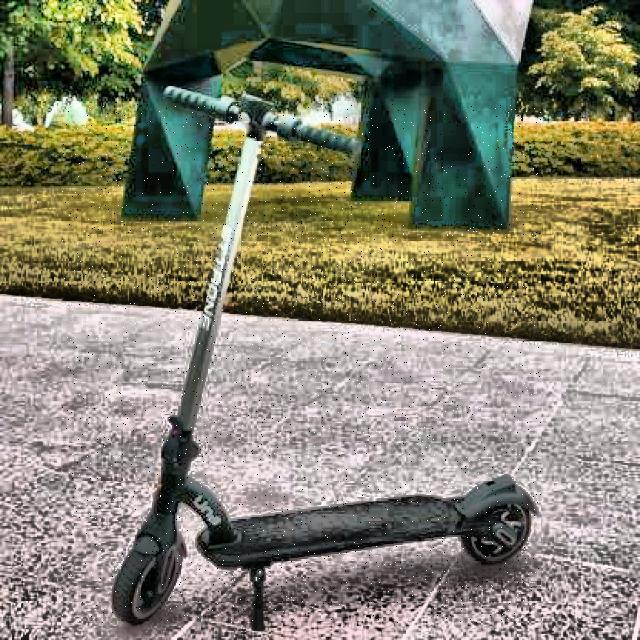bike: (110, 74, 544, 632)
car: (121, 0, 546, 228)
